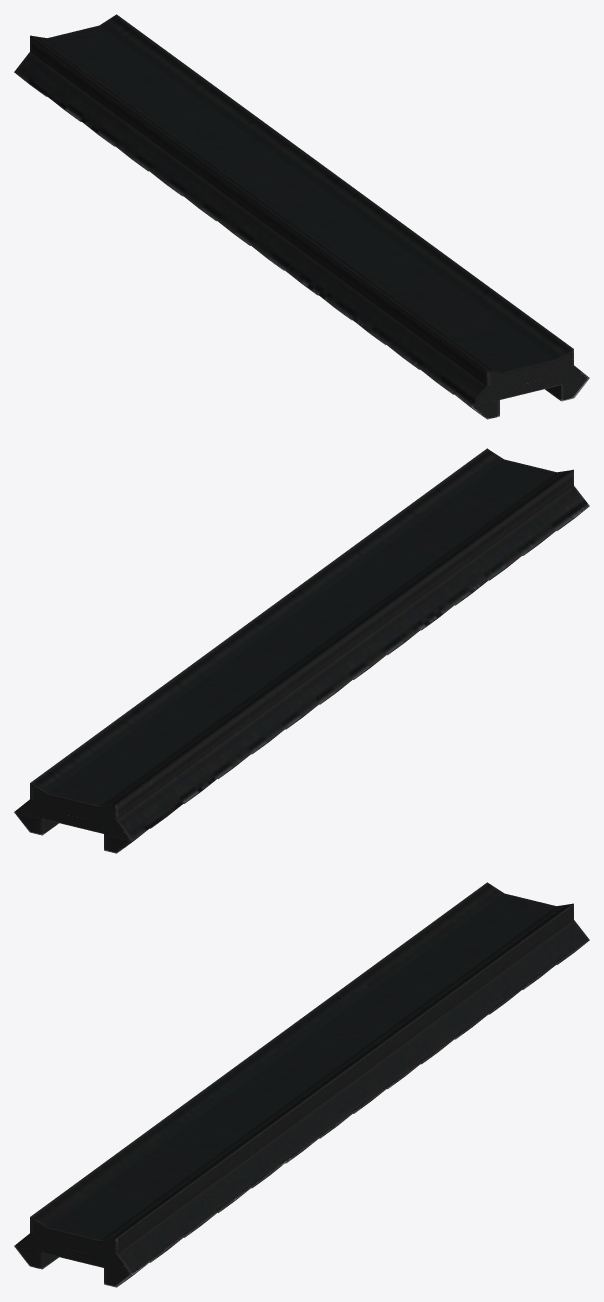
The picture shows the model from 3 angles, top to bottom: view 1: azimuth 30°, elevation 25°; view 2: azimuth 150°, elevation 25°; view 3: azimuth 330°, elevation 25°; orthographic projection.
Parts seen in each view (by area): view 1: TW_55d48a634bdc2d8b2f8b456a_PZ_Import; view 2: TW_55d48a634bdc2d8b2f8b456a_PZ_Import; view 3: TW_55d48a634bdc2d8b2f8b456a_PZ_Import.
Boxes of the visible parts, box(x1,y1,x2,y2) form: TW_55d48a634bdc2d8b2f8b456a_PZ_Import: box(14, 14, 589, 419); TW_55d48a634bdc2d8b2f8b456a_PZ_Import: box(14, 448, 589, 853); TW_55d48a634bdc2d8b2f8b456a_PZ_Import: box(14, 882, 589, 1287).
Size of the model in its own units: 0.0119 by 0.0794 by 0.00472.
Materials: 1 (1 with a texture image).
